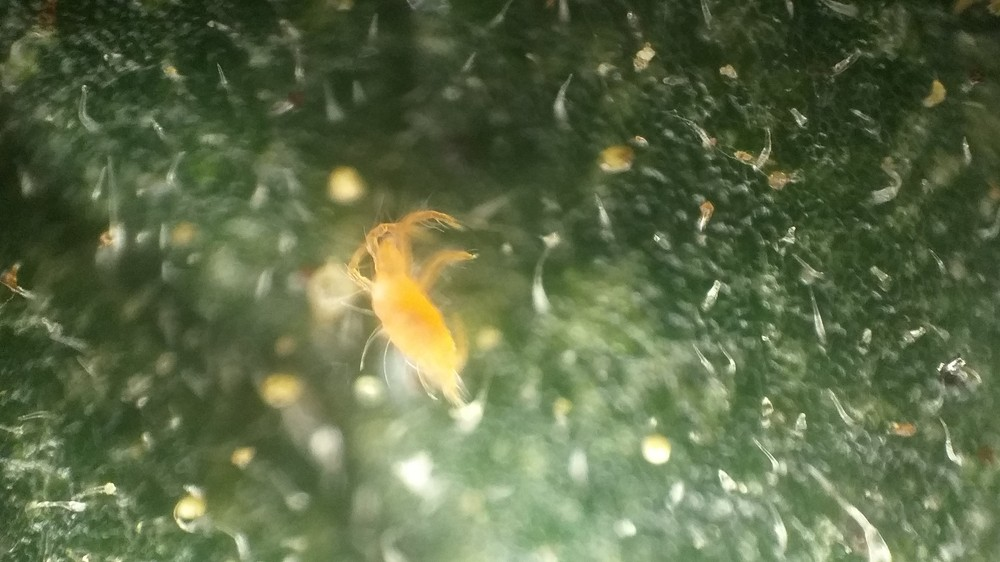Aracnido Rojo: (331, 196, 520, 439)
